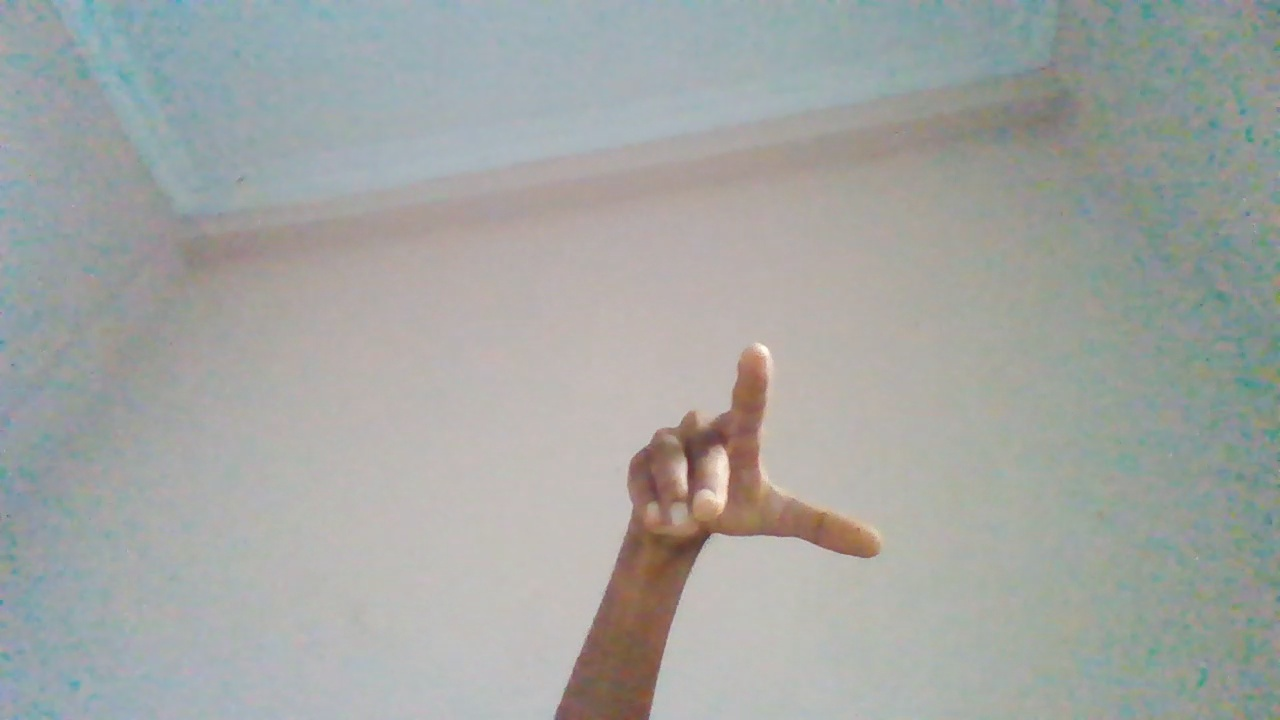ke: (628, 342, 883, 673)
